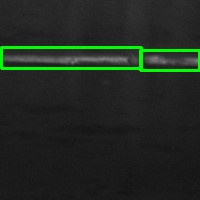scratches: (1, 47, 141, 68), (140, 50, 199, 70)
